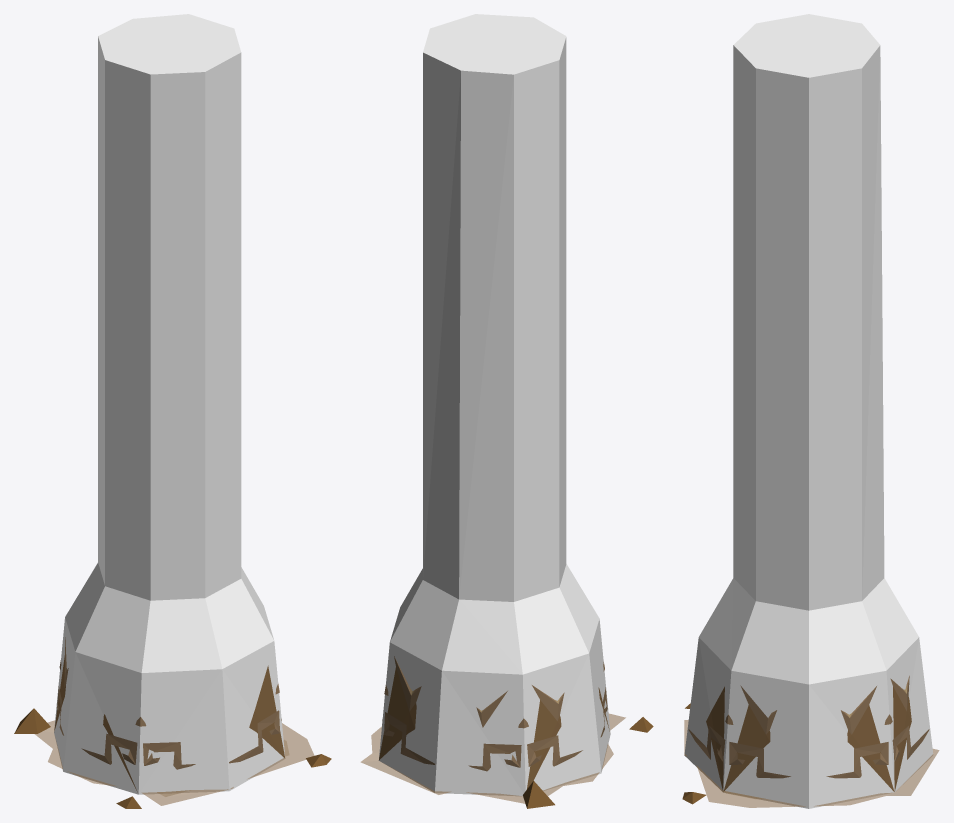
File: vale-totems.gltf
The picture shows the model from 3 angles, left to right: view 1: azimuth 30°, elevation 25°; view 2: azimuth 150°, elevation 25°; view 3: azimuth 270°, elevation 25°; orthographic projection.
Size of the model in its own units: 125 by 384 by 126.
Materials: 2 (2 with a texture image).
